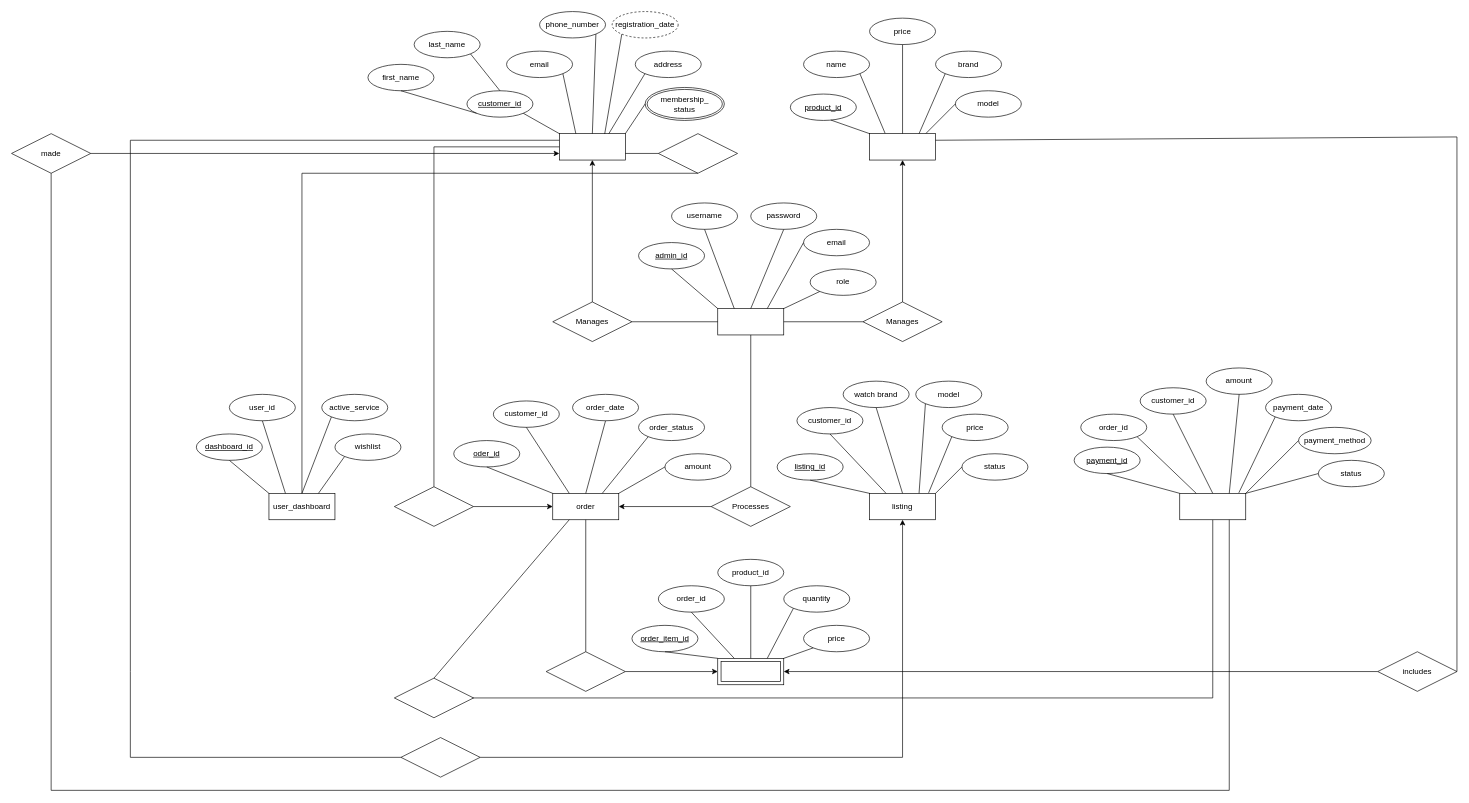
This 1469x803 diagram has some shape labels left out. The centre of each missing label's shape, as x and y in pixels:
"admin" belongs at point 750,321.
"associated" belongs at point 434,697.
"contains" belongs at point 585,671.
"creates" belongs at point 440,757.
"customer" belongs at point 592,146.
"has" belongs at point 698,153.
"order_item" belongs at point 750,671.
"payment" belongs at point 1212,506.
"places" belongs at point 434,506.
"product" belongs at point 902,146.
